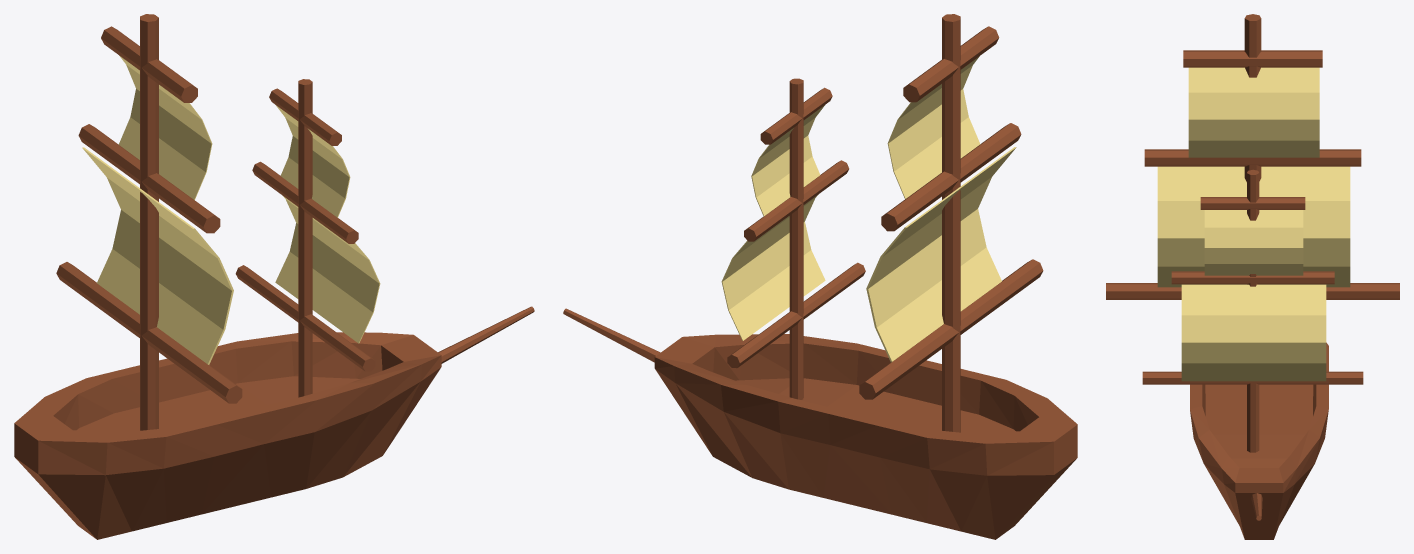
Rendered from ship.gltf.
The picture shows the model from 3 angles, left to right: view 1: azimuth 30°, elevation 25°; view 2: azimuth 150°, elevation 25°; view 3: azimuth 270°, elevation 25°; orthographic projection. The views are drawn at different scales.
Parts seen in each view (by area): view 1: Ship; view 2: Ship; view 3: Ship.
Part boxes in pixels (x1,y1,x2,y2): Ship: (14, 14, 534, 539); Ship: (563, 14, 1077, 539); Ship: (1106, 14, 1399, 539).
Bounding box in the file's own units: 18.26 × 17.33 × 10.56.
